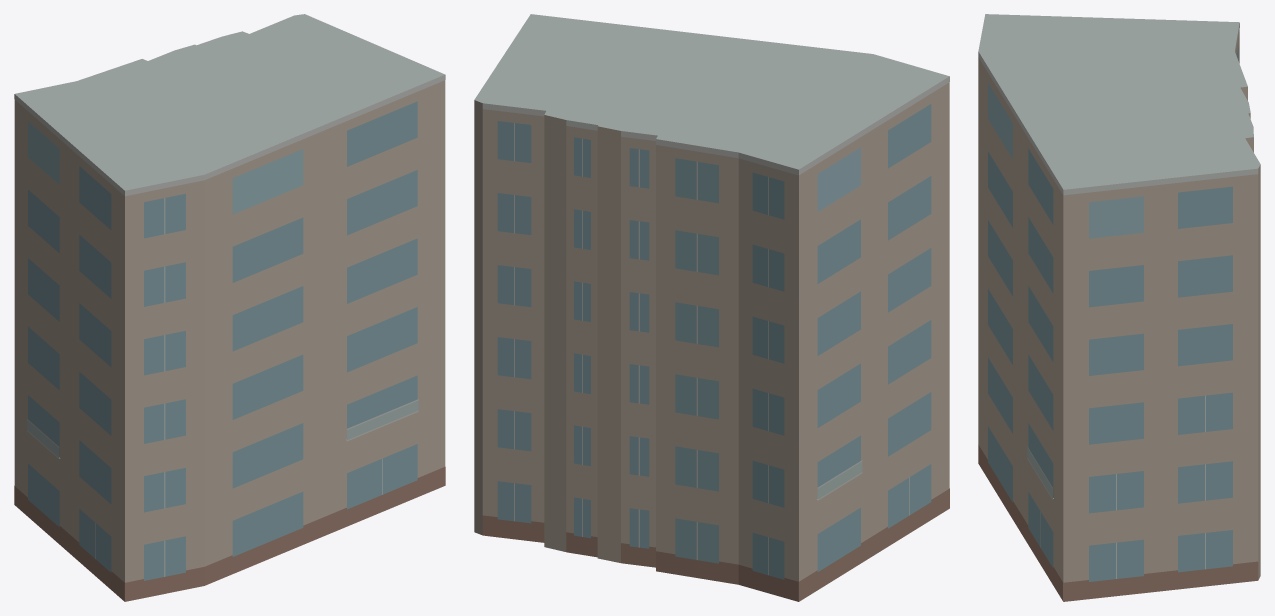
Rendered from survey-upis-33035008.glb.
3 views of the same model, side by side, from view 1: azimuth 30°, elevation 25°; view 2: azimuth 150°, elevation 25°; view 3: azimuth 270°, elevation 25° (orthographic). The views are drawn at different scales.
Parts seen in each view (by area): view 1: survey-upis-33035008.tmp; view 2: survey-upis-33035008.tmp; view 3: survey-upis-33035008.tmp.
Boxes of the visible parts, <box> form: survey-upis-33035008.tmp: <box>14,14,445,601</box>; survey-upis-33035008.tmp: <box>474,14,949,601</box>; survey-upis-33035008.tmp: <box>978,14,1260,601</box>.
Bounding box in the file's own units: 16.76 × 18.3 × 11.37.
